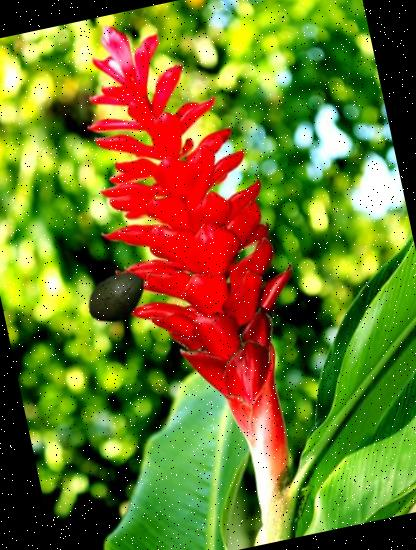Avocado: (80, 260, 156, 336)
